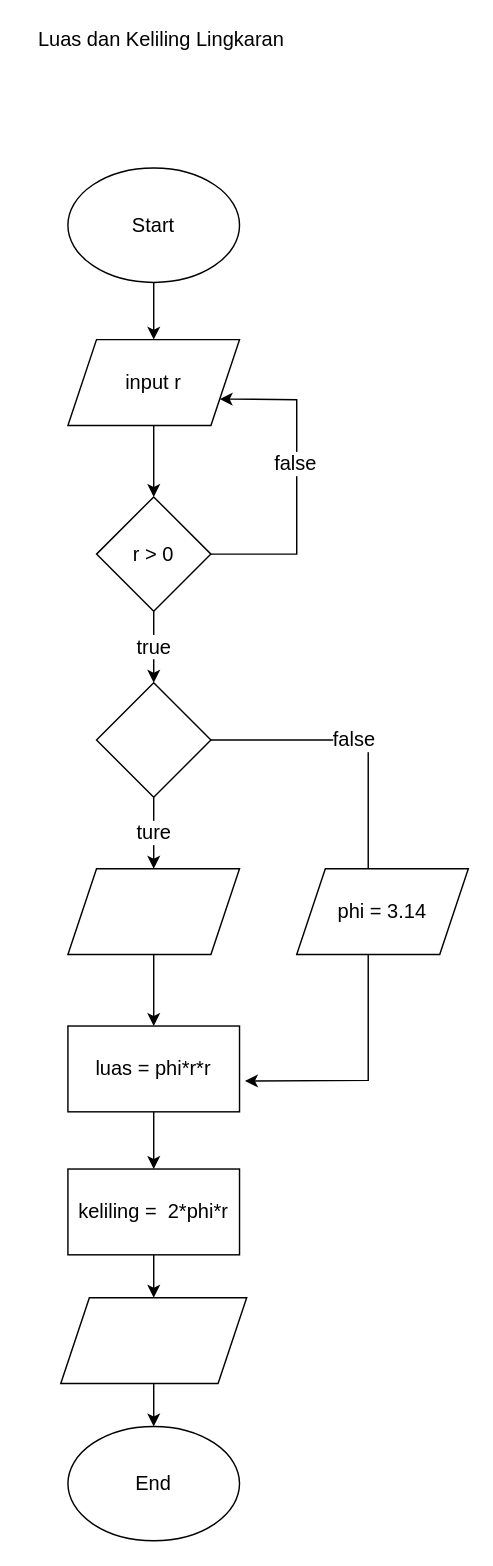
Some shapes in this 493 by 1566 pixel diagram are drawn without their labels. The shapes that lost their labels are listed below. From the top down, each one's centre as x and y in pixels, then its label:
point (153, 739): r mod 7
point (153, 911): phi = 22/7
point (153, 1340): output luas dan keliliing
